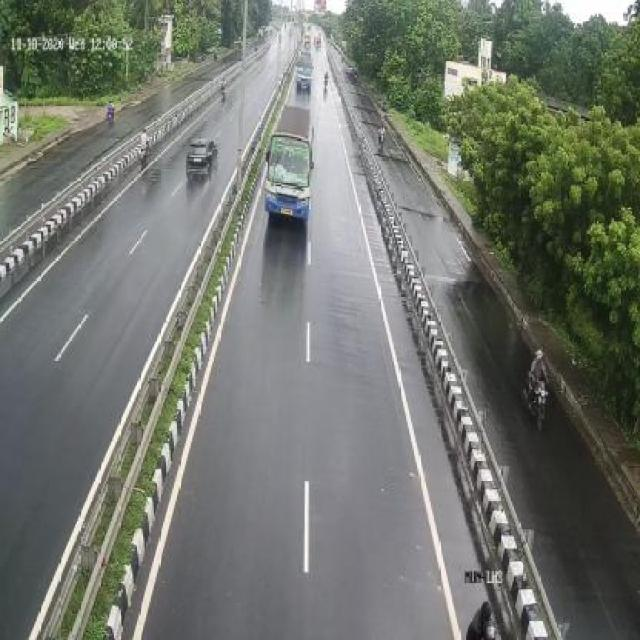car: (186, 126, 222, 185)
